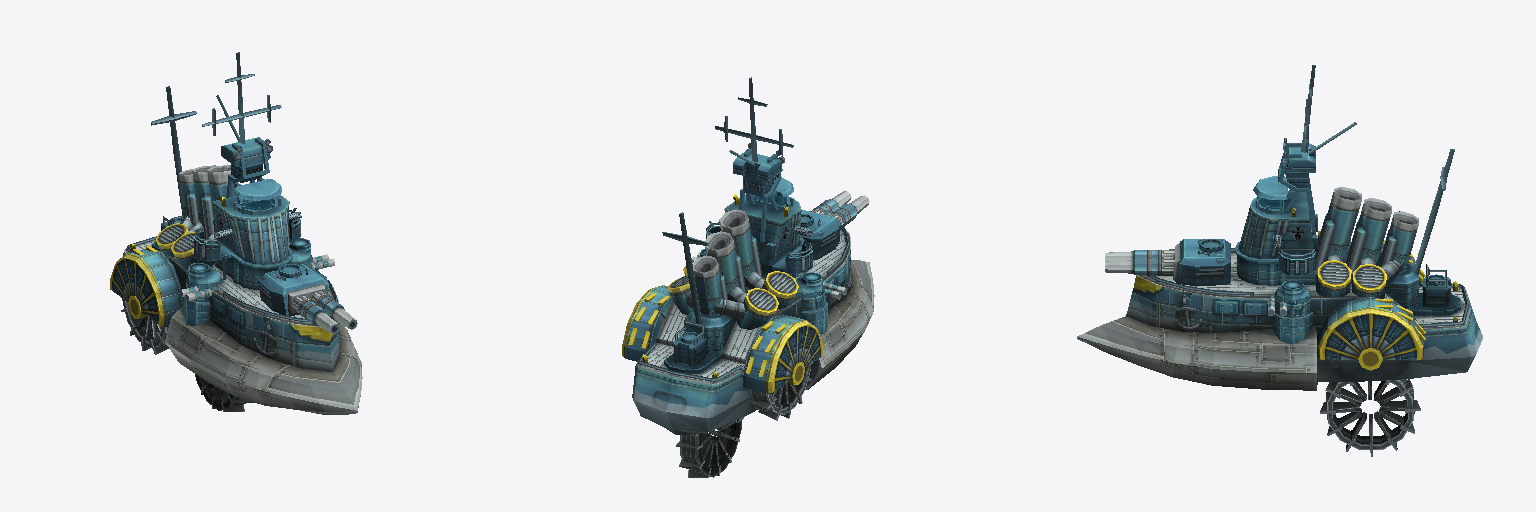
3 views of the same model, side by side, from view 1: azimuth 30°, elevation 25°; view 2: azimuth 150°, elevation 25°; view 3: azimuth 270°, elevation 25° (orthographic).
Visible parts, largest first — view 1: VXBTTLSHIP, TURRET01, PROP01, PROP02, GUN01, TURRET03, GUN02; view 2: VXBTTLSHIP, PROP02, PROP01, TURRET01, TURRET06, TURRET03, GUN01; view 3: VXBTTLSHIP, PROP02, TURRET01, GUN02, TURRET02, TURRET06, GUN01.
Part boxes in pixels (x1,y1,x2,y2): VXBTTLSHIP: (110, 52, 362, 414); TURRET01: (258, 264, 328, 315); PROP01: (121, 298, 168, 354); PROP02: (195, 374, 253, 411); GUN01: (292, 295, 339, 333); TURRET03: (186, 263, 222, 301); GUN02: (311, 291, 357, 329); VXBTTLSHIP: (622, 77, 874, 434); PROP02: (676, 417, 743, 477); PROP01: (749, 365, 811, 420); TURRET01: (801, 210, 840, 259); TURRET06: (674, 320, 705, 366); TURRET03: (795, 272, 825, 310); GUN01: (829, 195, 869, 229); VXBTTLSHIP: (1077, 65, 1482, 390); PROP02: (1320, 379, 1420, 456); TURRET01: (1173, 239, 1230, 285); GUN02: (1105, 258, 1174, 275); TURRET02: (1275, 280, 1310, 317); TURRET06: (1423, 264, 1450, 306); GUN01: (1105, 249, 1174, 260).
Bounding box in the file's own units: 8.62 × 20.6 × 19.93.
Materials: 17 (1 with a texture image).